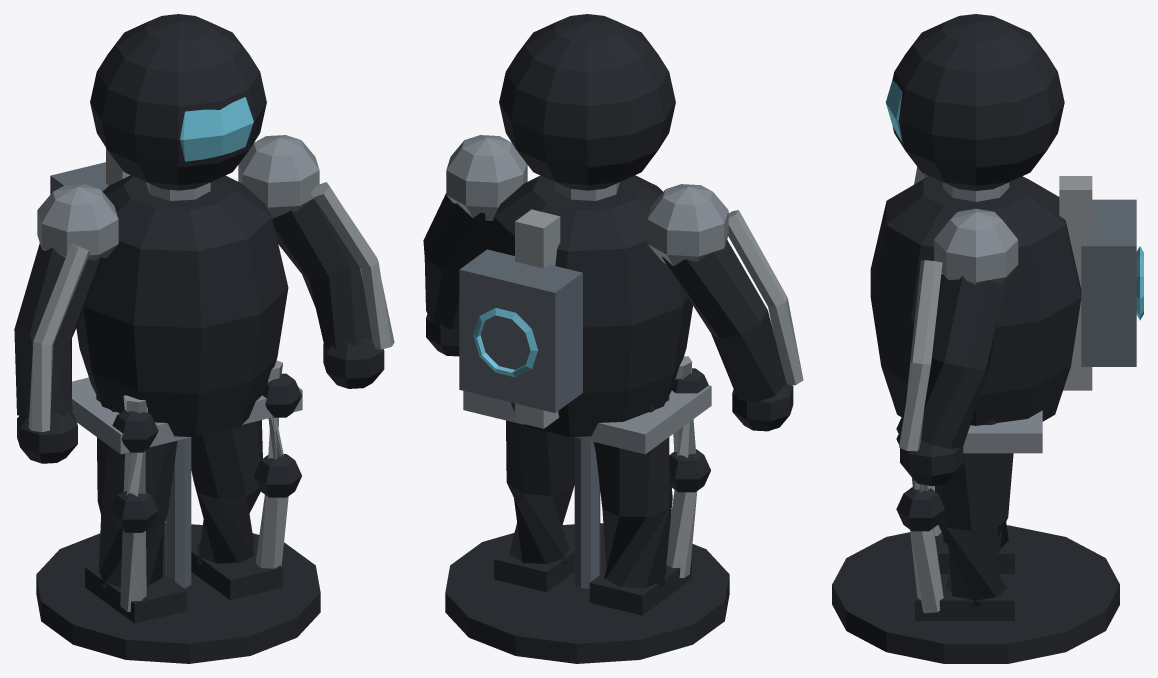
Rendered from durasteel-exoskeleton.glb.
The picture shows the model from 3 angles, left to right: view 1: azimuth 30°, elevation 25°; view 2: azimuth 150°, elevation 25°; view 3: azimuth 270°, elevation 25°; orthographic projection.
Parts seen in each view (by area): view 1: m; view 2: m; view 3: m.
Boxes of the visible parts, left/top/right/bottom form: m: left=14, top=14, right=394, bottom=663; m: left=423, top=14, right=803, bottom=663; m: left=832, top=14, right=1143, bottom=663.
Size of the model in its own units: 0.366 by 0.56 by 0.2718.
